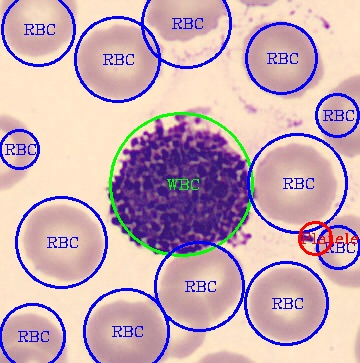Platelets: (295, 230, 316, 244)
RBC: (72, 22, 165, 104), (253, 140, 338, 227), (21, 199, 106, 285), (239, 18, 325, 100), (158, 243, 245, 321), (246, 264, 330, 344), (82, 296, 169, 361), (137, 285, 210, 360), (0, 0, 78, 60), (142, 0, 225, 43), (319, 71, 359, 160), (0, 310, 69, 361), (313, 211, 358, 289), (0, 110, 37, 193)
WBC: (110, 118, 253, 253)
